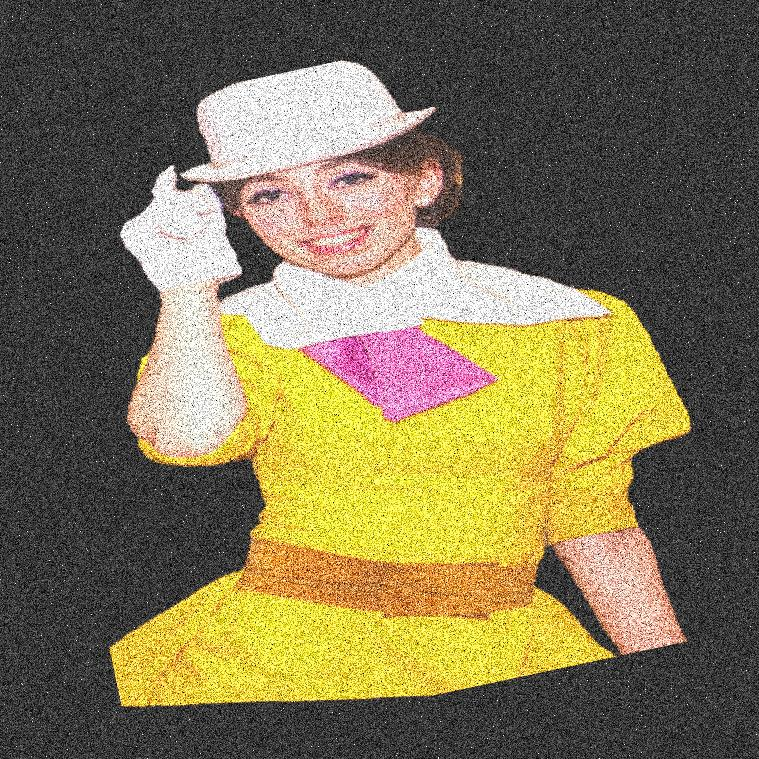Pessoa: (227, 0, 596, 758)
